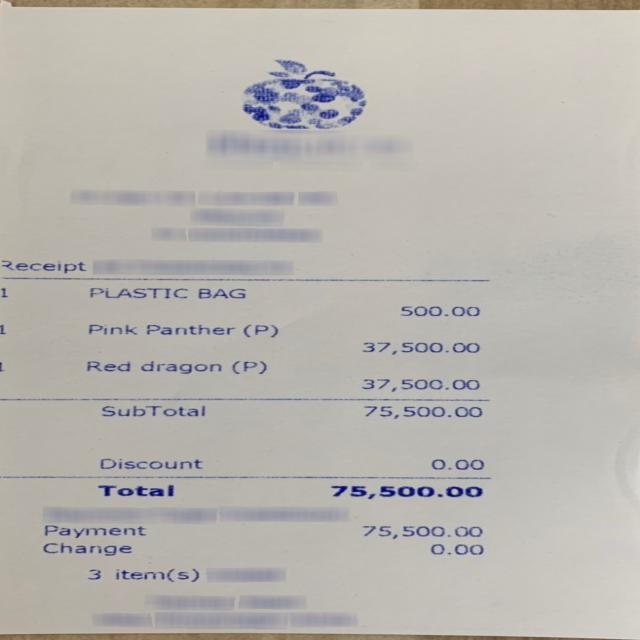text: (330, 484, 480, 498), (362, 523, 479, 538), (360, 340, 478, 354), (360, 377, 478, 391), (362, 405, 480, 418), (41, 542, 129, 556), (44, 525, 144, 537), (138, 360, 220, 374), (89, 287, 186, 298), (114, 568, 196, 581), (99, 458, 201, 468), (101, 405, 202, 415), (0, 260, 84, 272), (146, 323, 233, 334), (98, 484, 172, 496), (400, 305, 478, 315), (430, 459, 482, 470), (430, 544, 482, 554), (88, 323, 134, 334), (85, 360, 128, 371), (231, 360, 264, 374), (242, 324, 276, 336), (198, 288, 242, 296), (87, 569, 99, 579)
